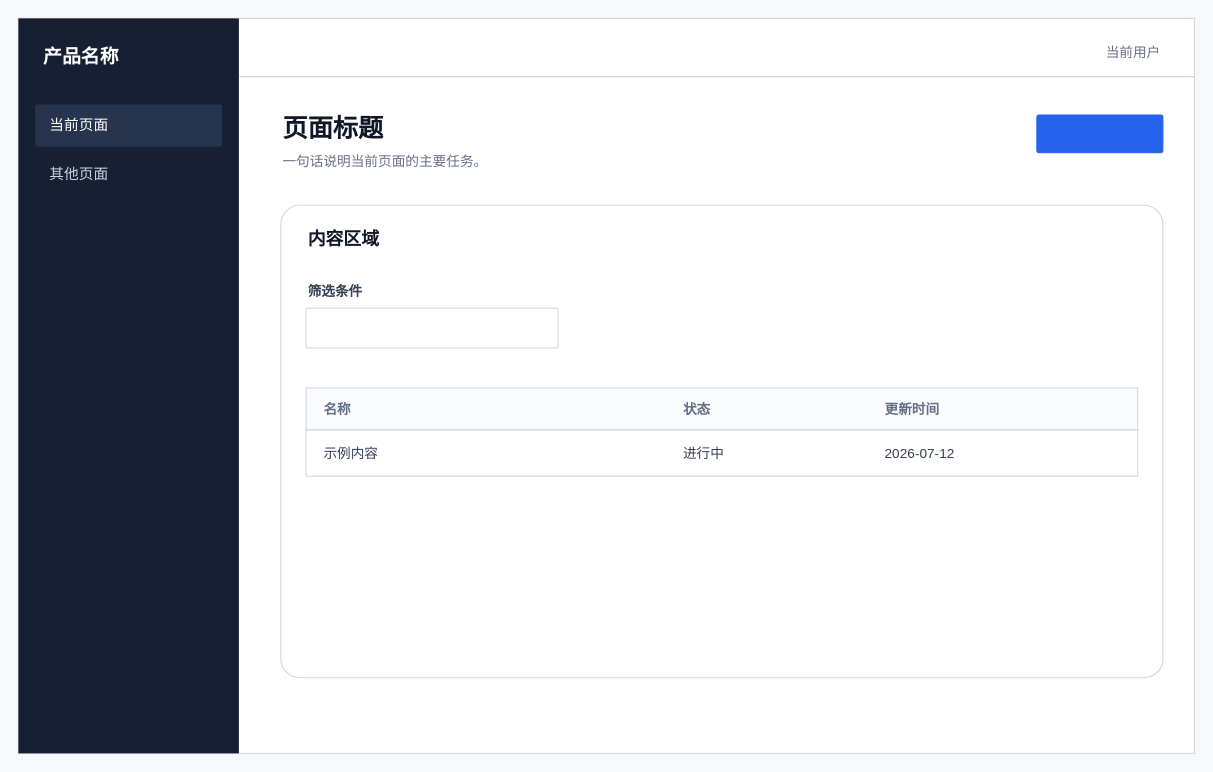
Some shapes in this 1213 by 772 pixel diagram are drawn without their labels. Here are the shapes that lost their labels. From the top down, the centre of each, then its label:
At point 1099,133: "主要操作".
At point 431,327: "请输入内容".
